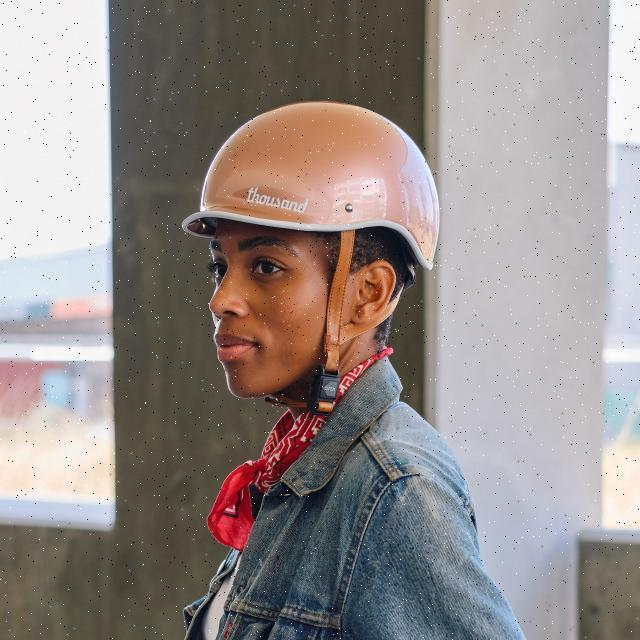helmet: (178, 102, 442, 416)
